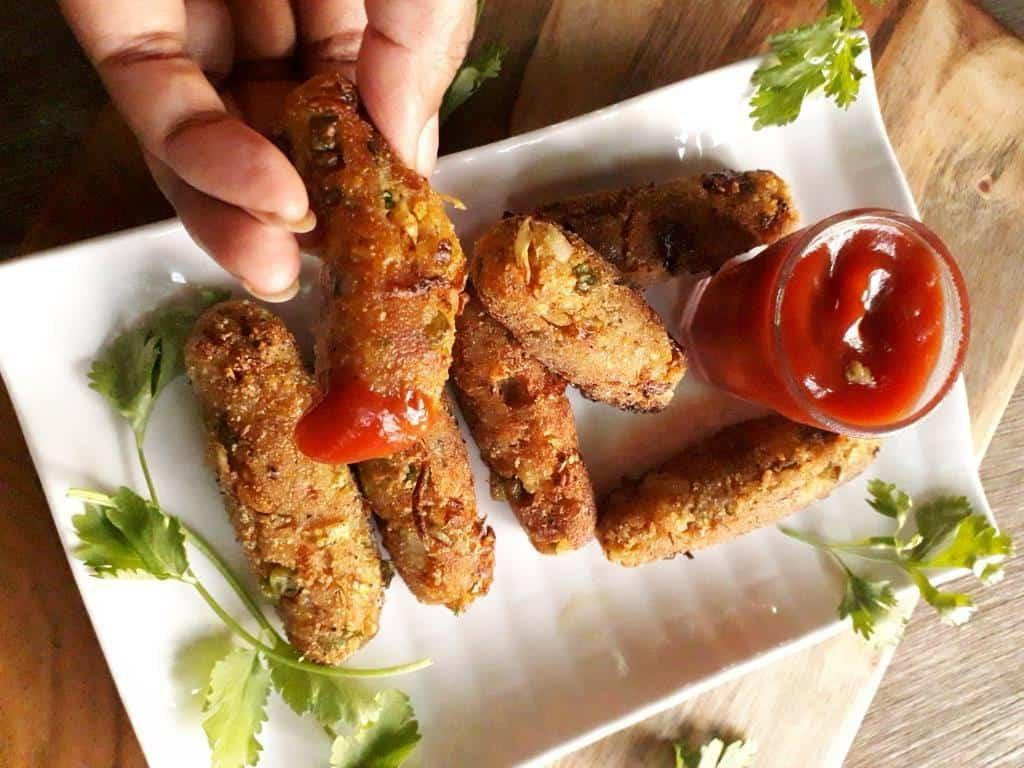Kebab: (189, 301, 384, 666), (291, 67, 466, 464), (593, 410, 878, 566), (473, 219, 700, 413), (452, 289, 596, 555), (507, 167, 795, 290), (360, 401, 494, 615)
